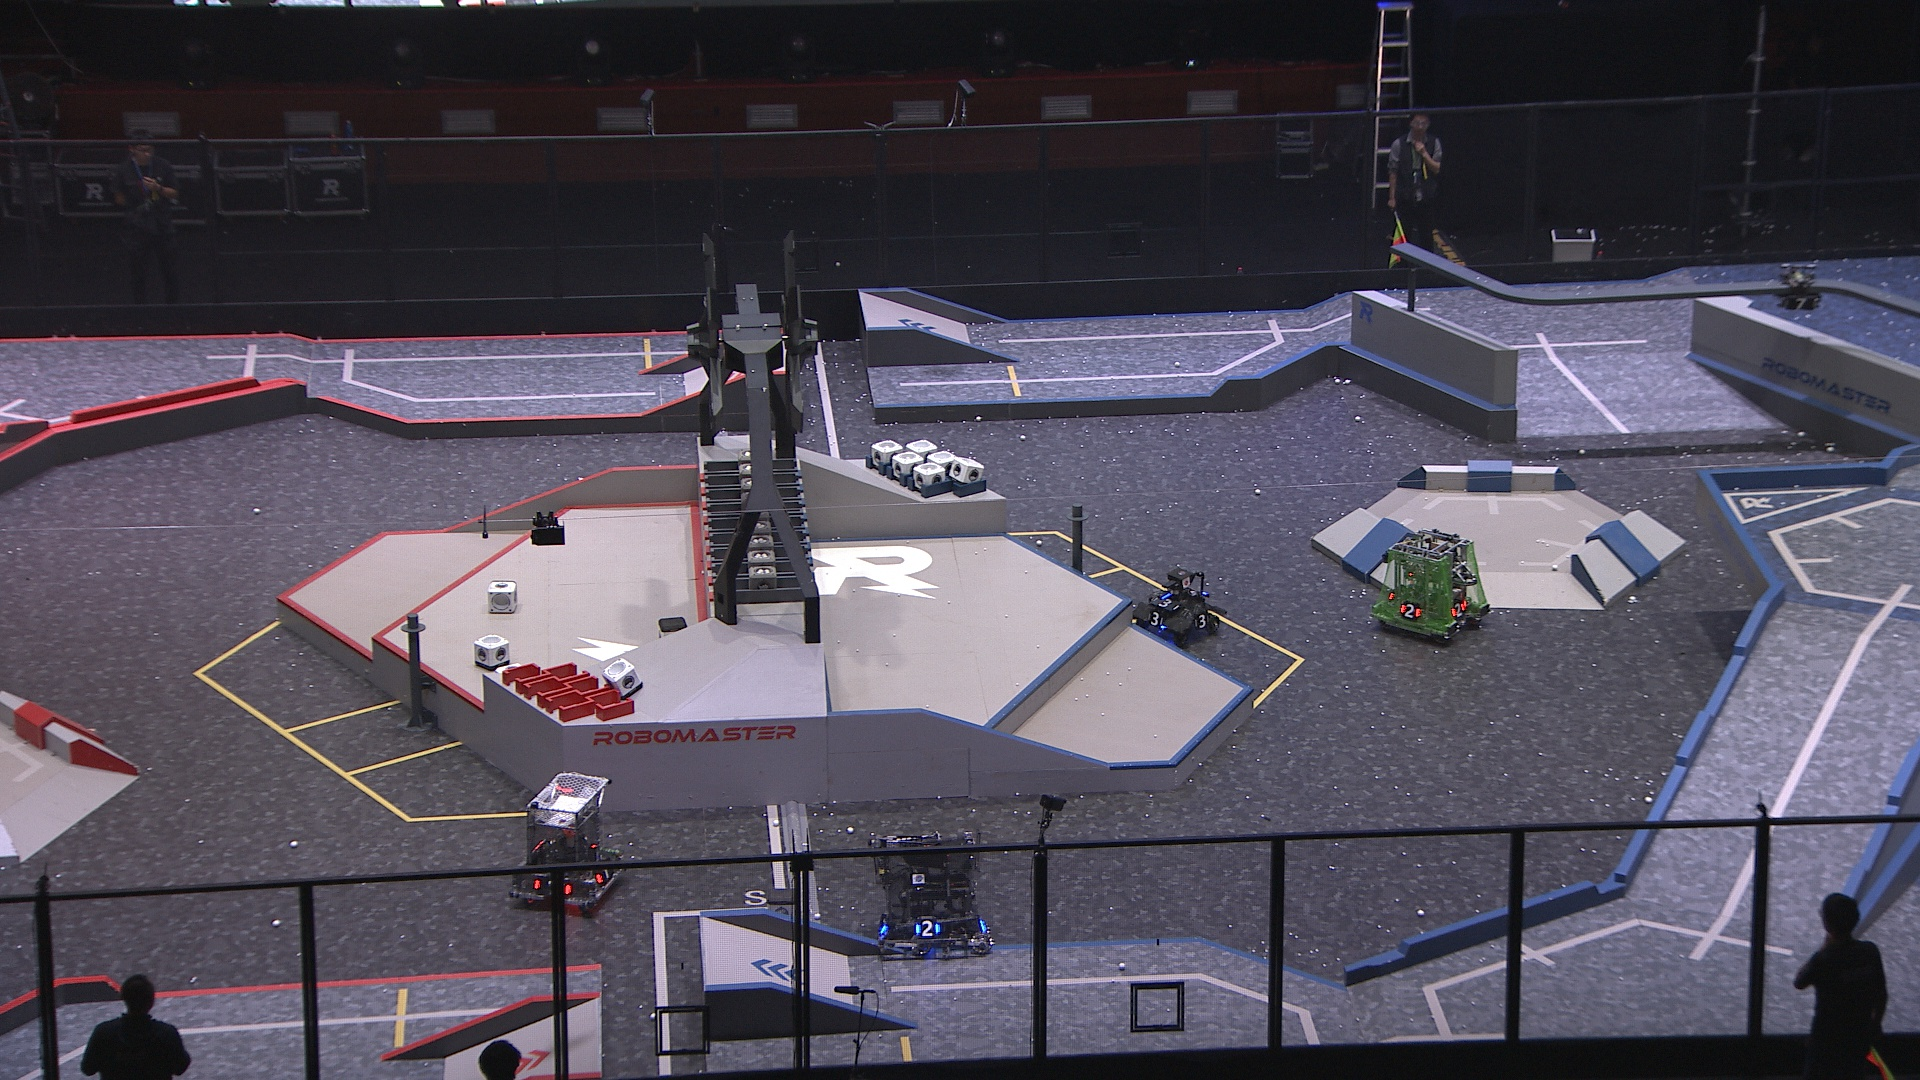armor: (913, 918, 942, 940), (1782, 295, 1818, 311), (1153, 593, 1182, 609), (593, 864, 615, 884), (1399, 603, 1424, 618), (1189, 612, 1212, 628), (1449, 600, 1468, 618), (1145, 612, 1166, 626)
car: (506, 769, 626, 915), (865, 828, 994, 959), (1371, 527, 1491, 647), (1131, 568, 1224, 647)
watcher: (1778, 261, 1826, 315)
